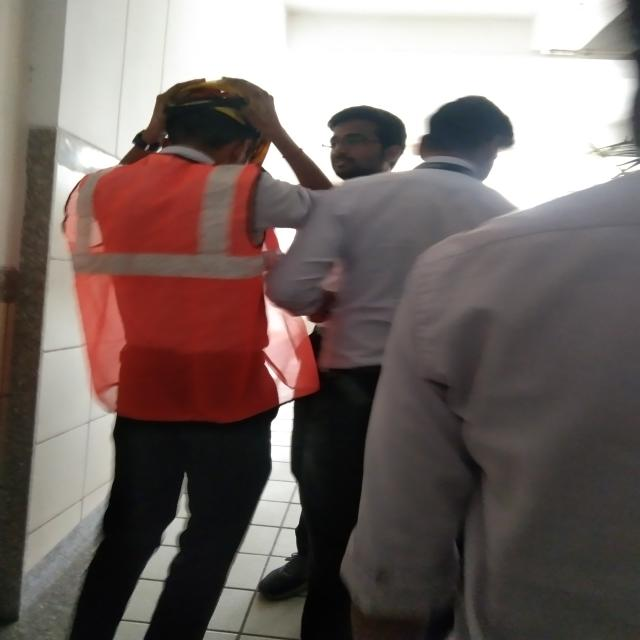safe: (60, 74, 304, 640)
unsafe: (274, 92, 528, 640)
